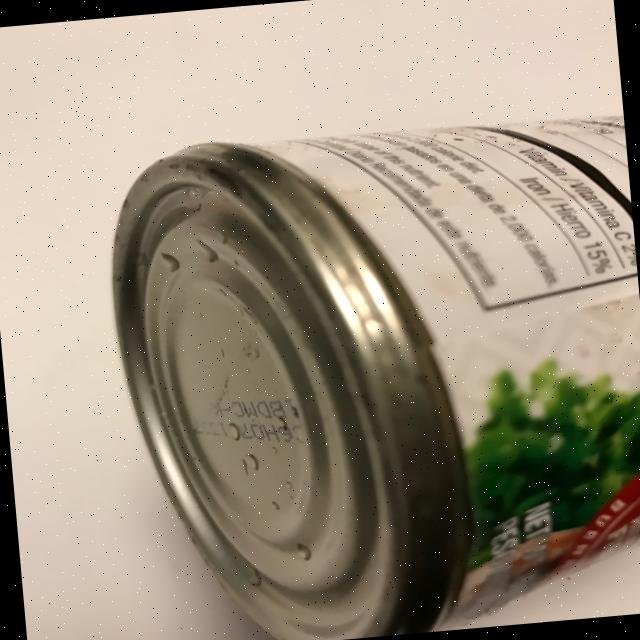metal: (98, 104, 640, 640)
